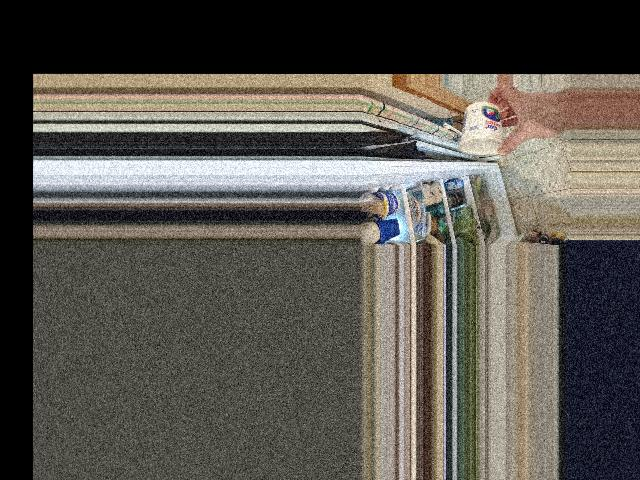cotage: (460, 99, 504, 156)
